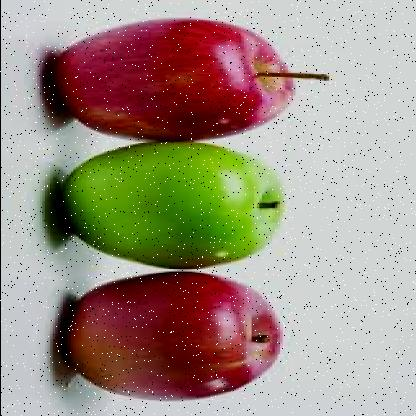apple: (39, 20, 307, 140), (62, 143, 292, 266), (70, 274, 276, 400)
